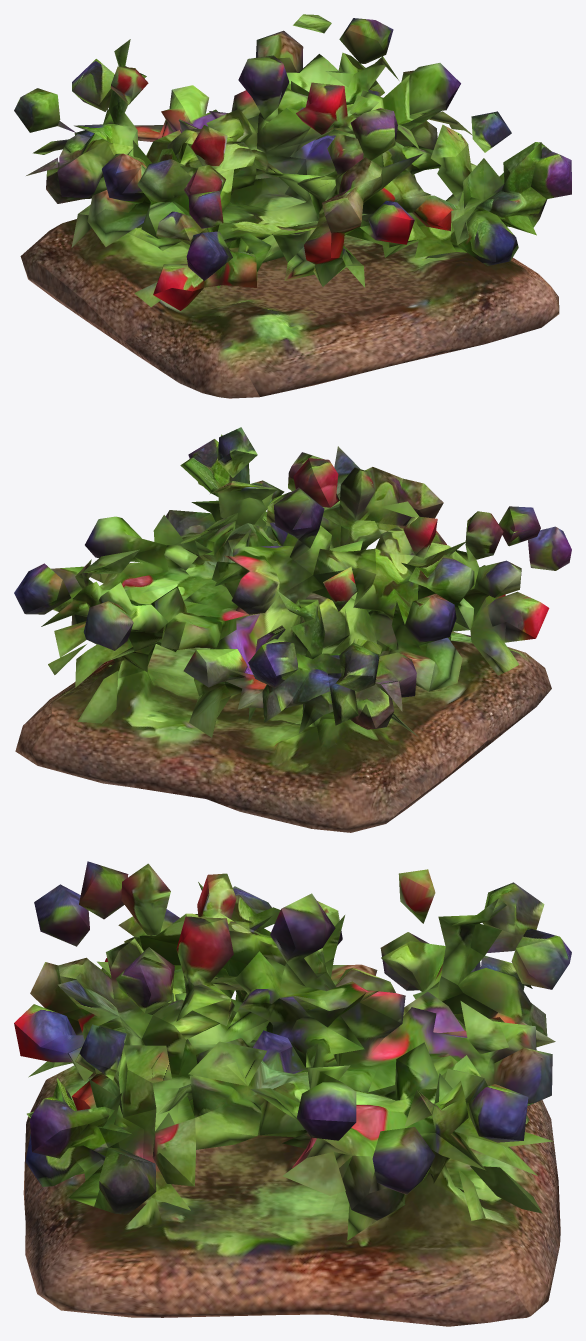
Rendered from BerryPlot.glb.
The picture shows the model from 3 angles, top to bottom: view 1: azimuth 30°, elevation 25°; view 2: azimuth 150°, elevation 25°; view 3: azimuth 270°, elevation 25°; orthographic projection. The views are drawn at different scales.
Parts seen in each view (by area): view 1: BerryPlot; view 2: BerryPlot; view 3: BerryPlot.
Boxes of the visible parts, left/top/right/bottom form: BerryPlot: left=14, top=14, right=571, bottom=398; BerryPlot: left=14, top=427, right=571, bottom=832; BerryPlot: left=14, top=861, right=571, bottom=1326.
Bounding box in the file's own units: 1 × 0.5947 × 0.9771.
1 material, 1 textured.
